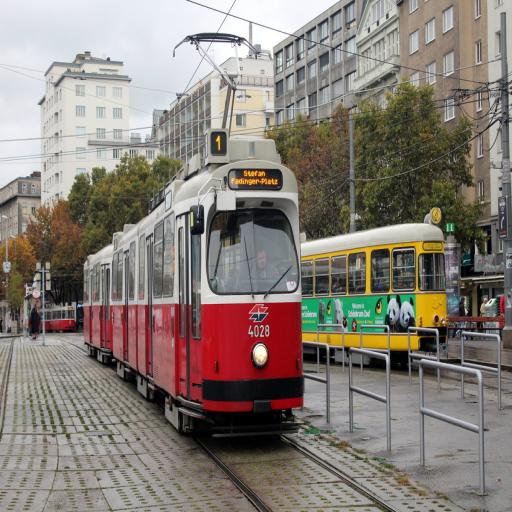E2-Tram: (82, 125, 305, 446)
